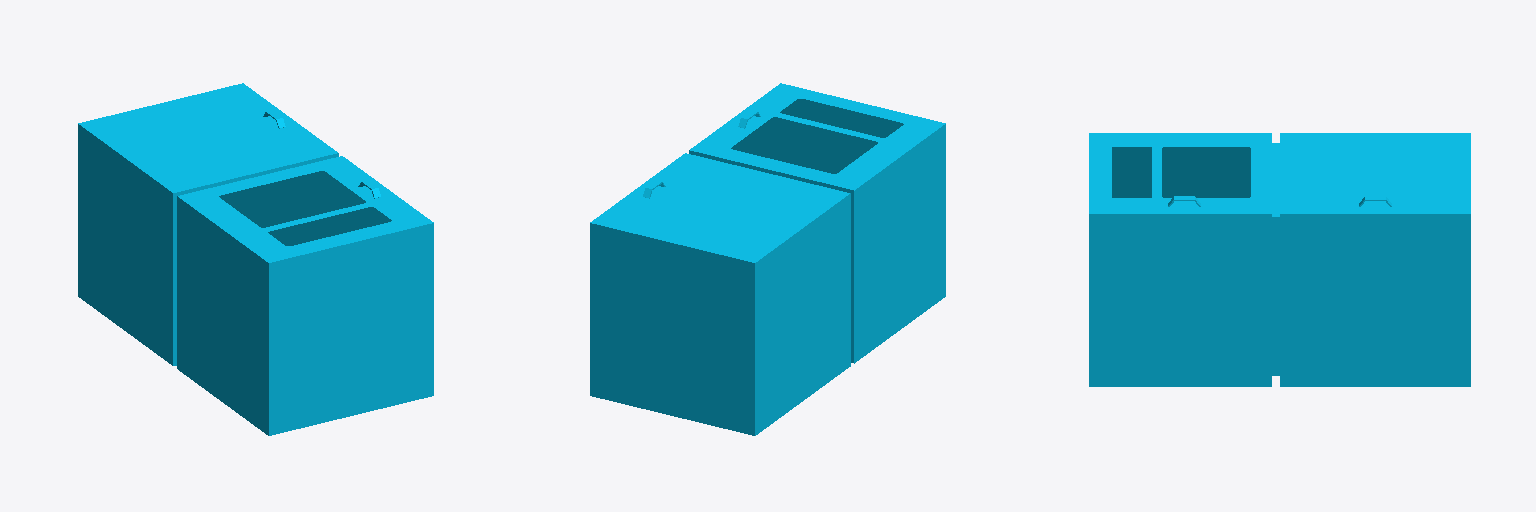
File: shuizhizaixianjiance.obj
3 views of the same model, side by side, from view 1: azimuth 30°, elevation 25°; view 2: azimuth 150°, elevation 25°; view 3: azimuth 270°, elevation 25° (orthographic).
Visible parts, largest first — view 1: equitment, pingmu; view 2: equitment, pingmu; view 3: equitment, pingmu.
Boxes of the visible parts, x1,y1,x2,y2 form: equitment: [78, 83, 433, 435]; pingmu: [219, 171, 391, 245]; equitment: [590, 83, 945, 435]; pingmu: [731, 99, 903, 173]; equitment: [1089, 133, 1470, 386]; pingmu: [1112, 147, 1250, 197].
Size of the model in its own units: 25 by 26.07 by 50.